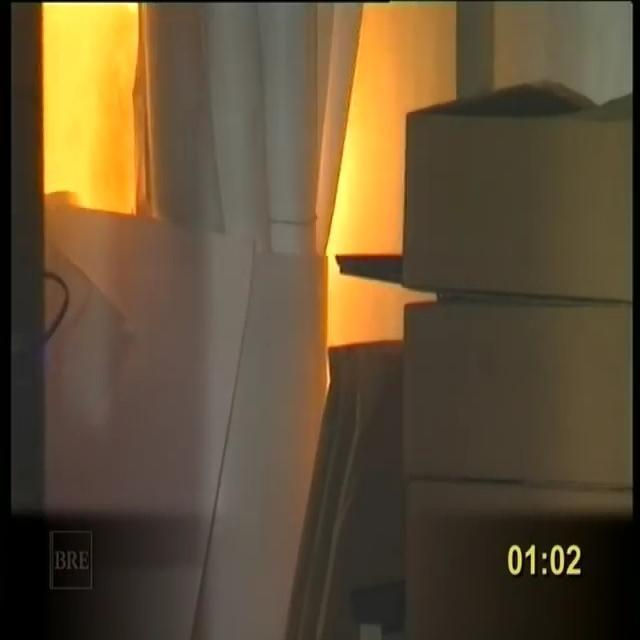Fire: (13, 7, 459, 266)
